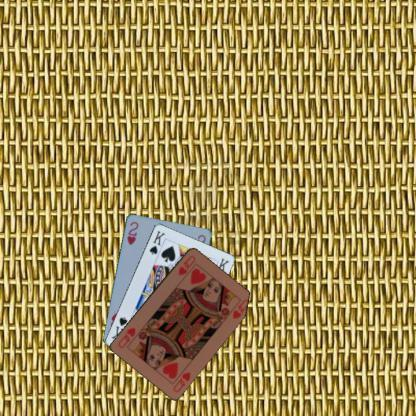2h: (124, 219, 139, 246)
Ks: (146, 228, 166, 257)
Qh: (170, 369, 192, 394), (176, 252, 197, 276)
